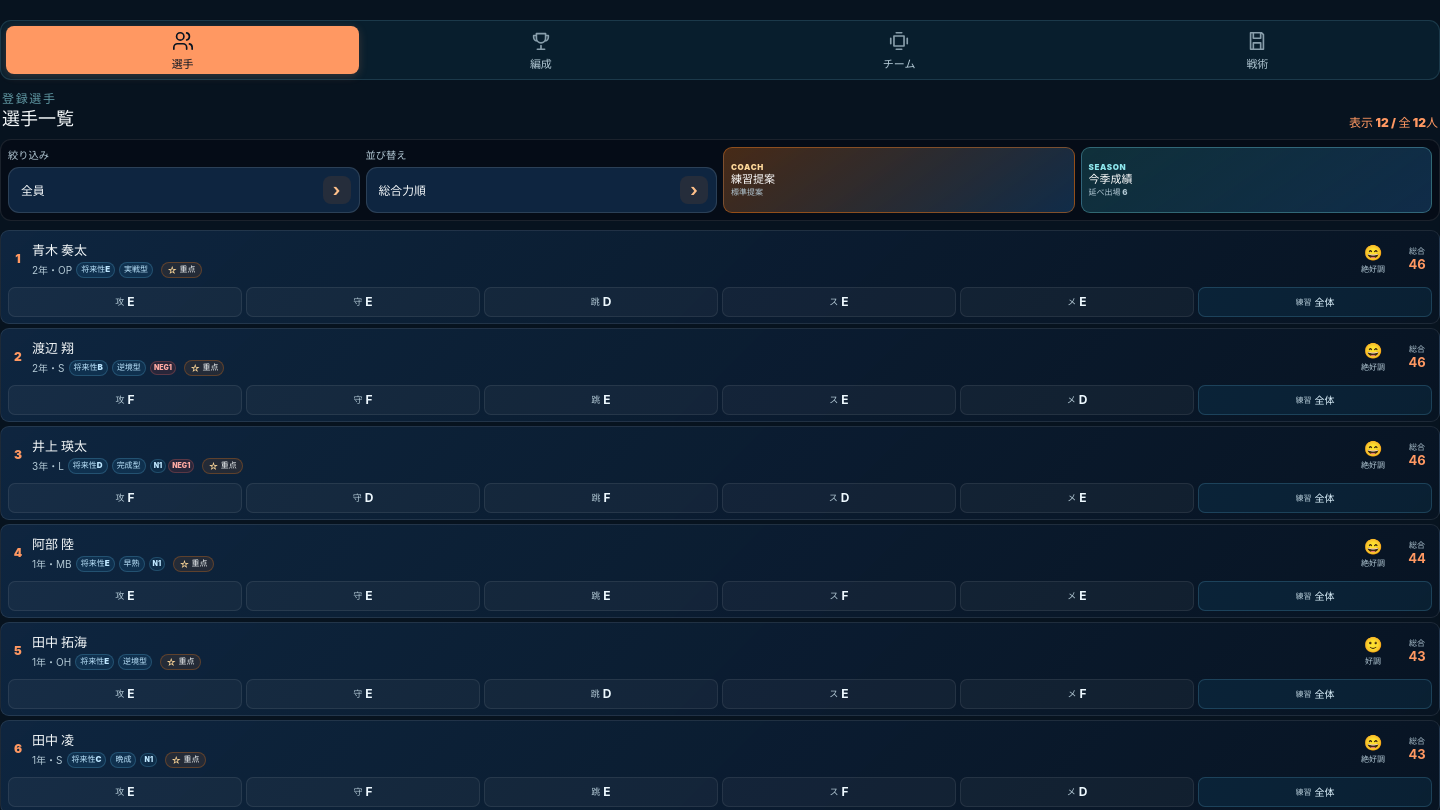
Test: Phase54 season leaderboard UI › opens a compact team leaderboard and drills into the selected player's record
Step 1. Click the button with aria-label "今季の公式戦成績" → (1107, 167), box top-left (1080, 147), bottom-right (1432, 213)
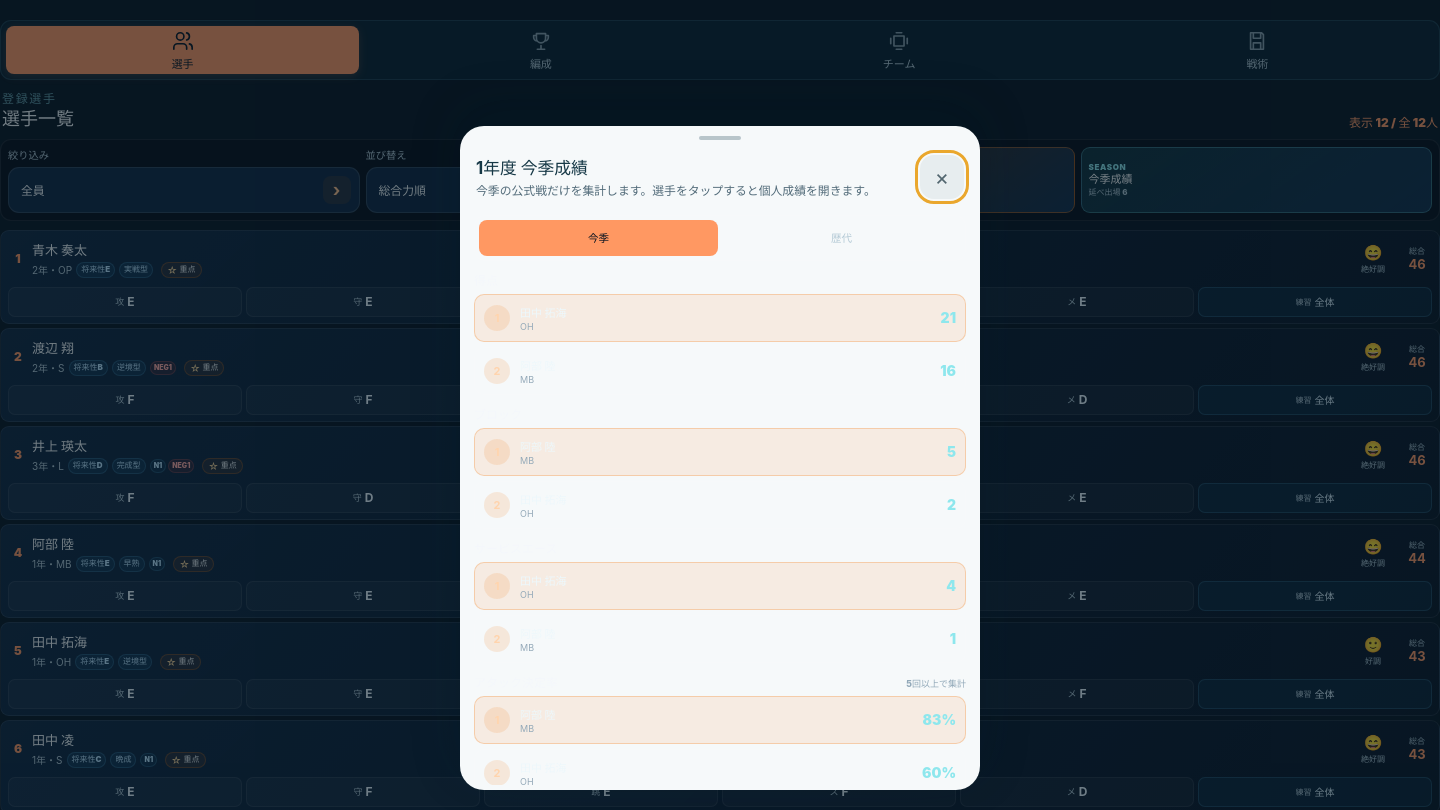
Step 2. Click the button "1 田中 拓海 OH 21" → (543, 313), box top-left (474, 294), bottom-right (966, 342)
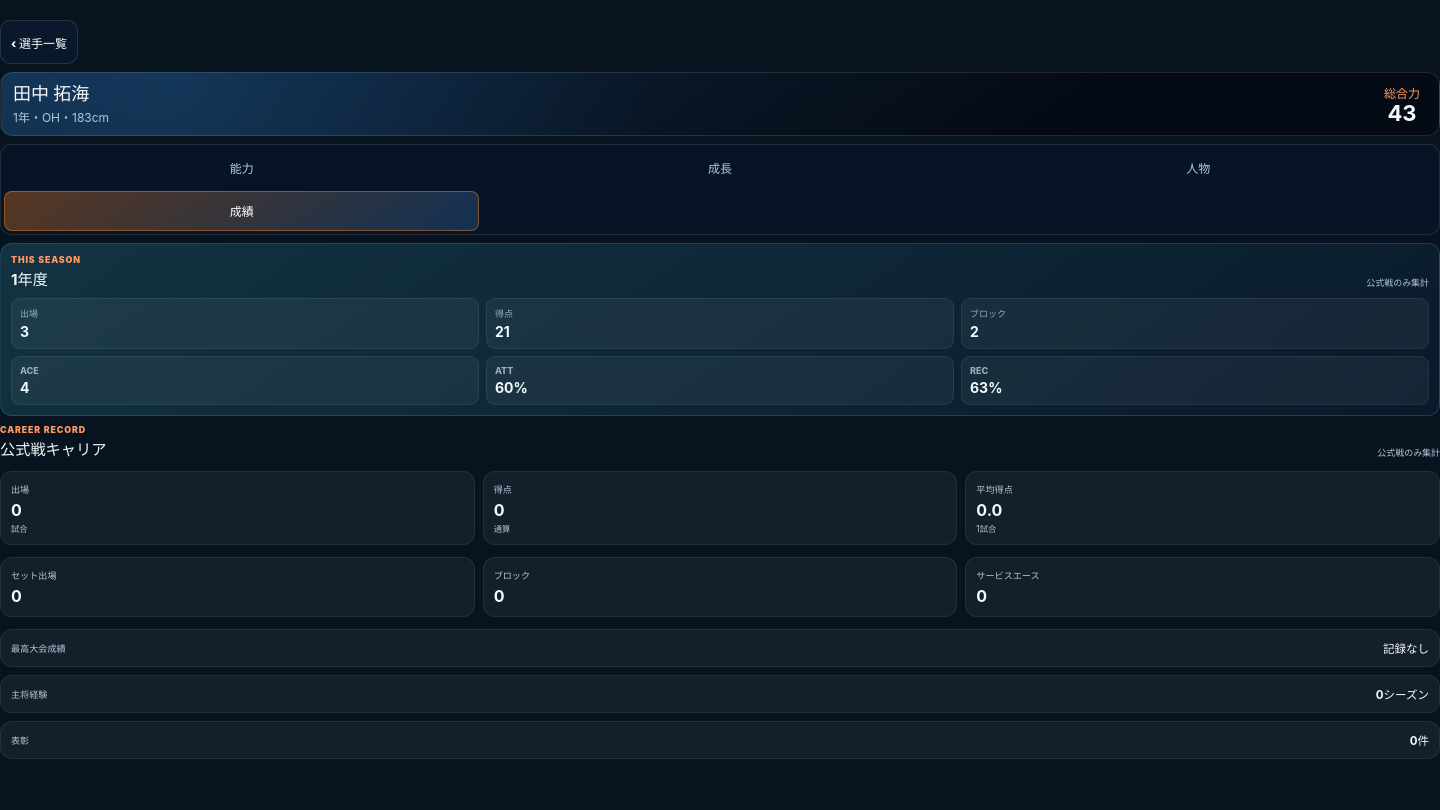
Result: the text "21" is shown at top-left (495, 323), bottom-right (510, 340)
Result: the text "60%" is shown at top-left (495, 379), bottom-right (528, 396)
Result: the element with test id "player-detail-record" is shown
